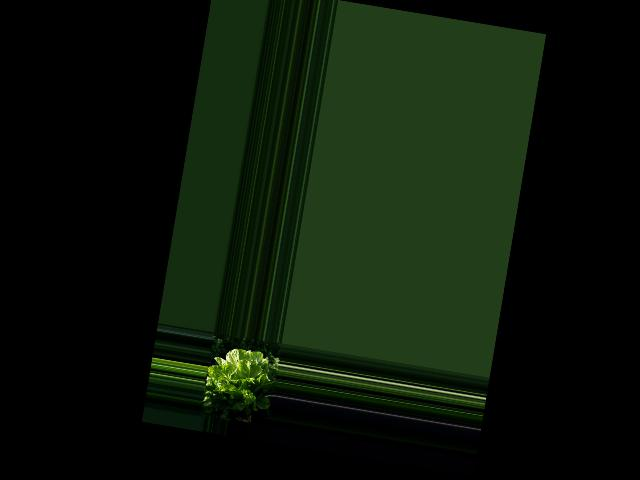lettuce: (209, 345, 278, 413)
